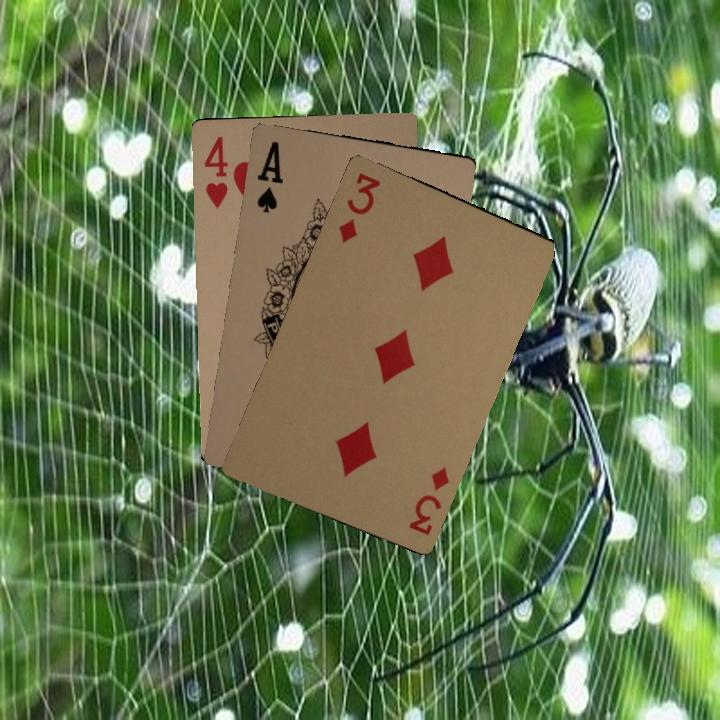3d: (334, 168, 383, 246), (404, 463, 452, 538)
4h: (200, 132, 231, 210)
As: (253, 137, 286, 216)
